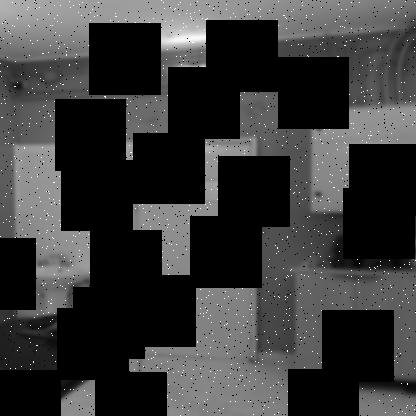Porte: (134, 136, 258, 362)
